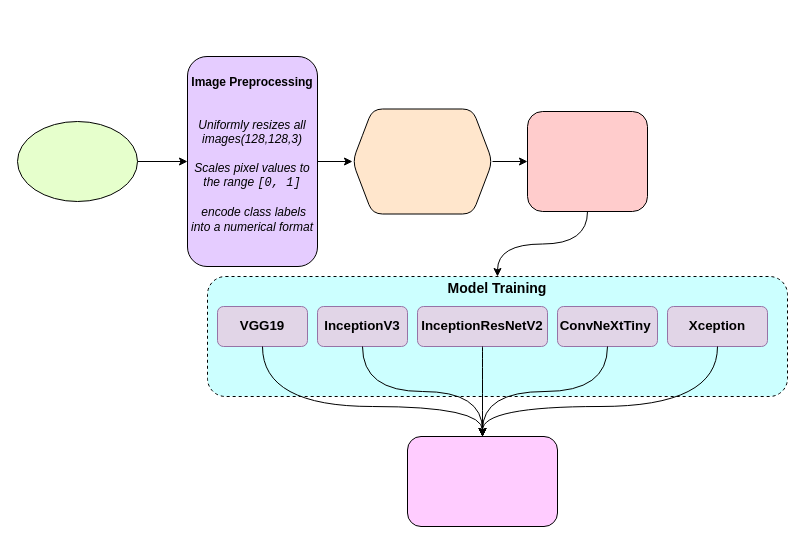
Some shapes in this 805 by 544 pixel diagram are drawn without their labels. The shapes that lost their labels are listed below. From the top down, each one's centre as x and y in pixels, then its label:
At (77,161): "ICD Dataset".
At (422,161): "Data Augmentation expanded up to five times".
At (587,161): "Split into train(80%), test(10%), validation(10%) Dataset".
At (482,481): "Ensemble Model Weighted Soft Voting Technique".
